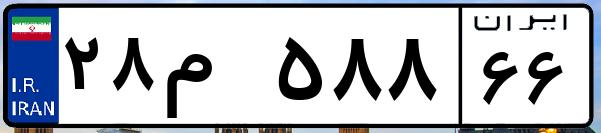2: (57, 26, 110, 100)
5: (270, 28, 330, 110)
6: (475, 38, 525, 113), (525, 38, 570, 115)
8: (385, 28, 445, 110), (330, 28, 385, 110), (110, 28, 158, 98)
م: (158, 20, 270, 120)
